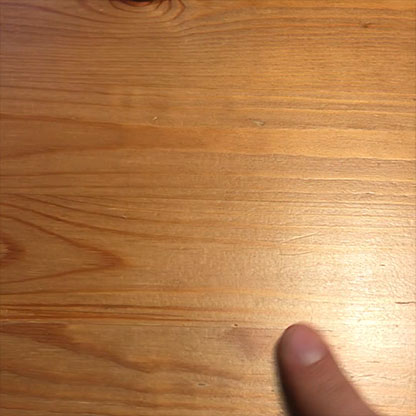fingertip: (272, 315, 329, 373)
